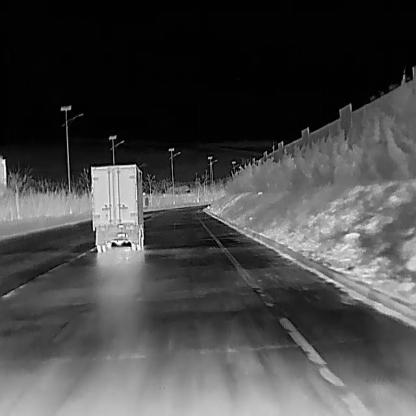truck: (90, 162, 148, 252)
